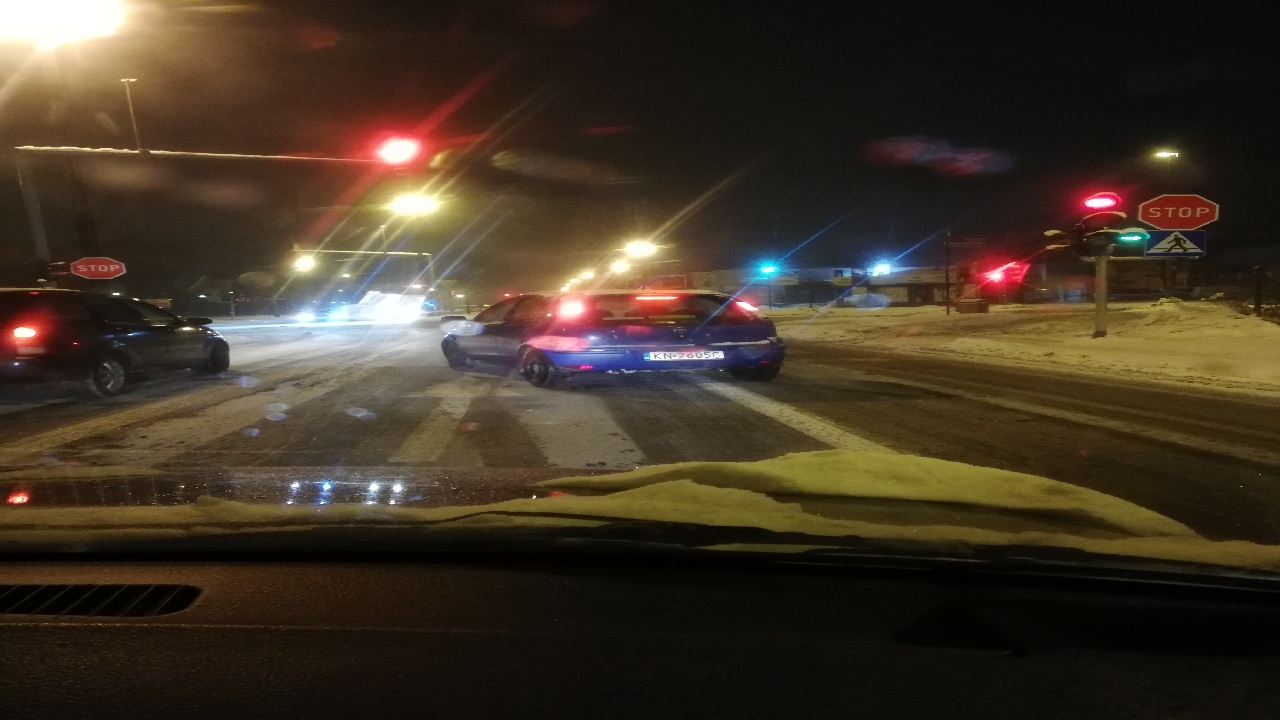B20: (1128, 189, 1224, 231), (70, 254, 127, 281)
D6: (1139, 228, 1215, 258)
